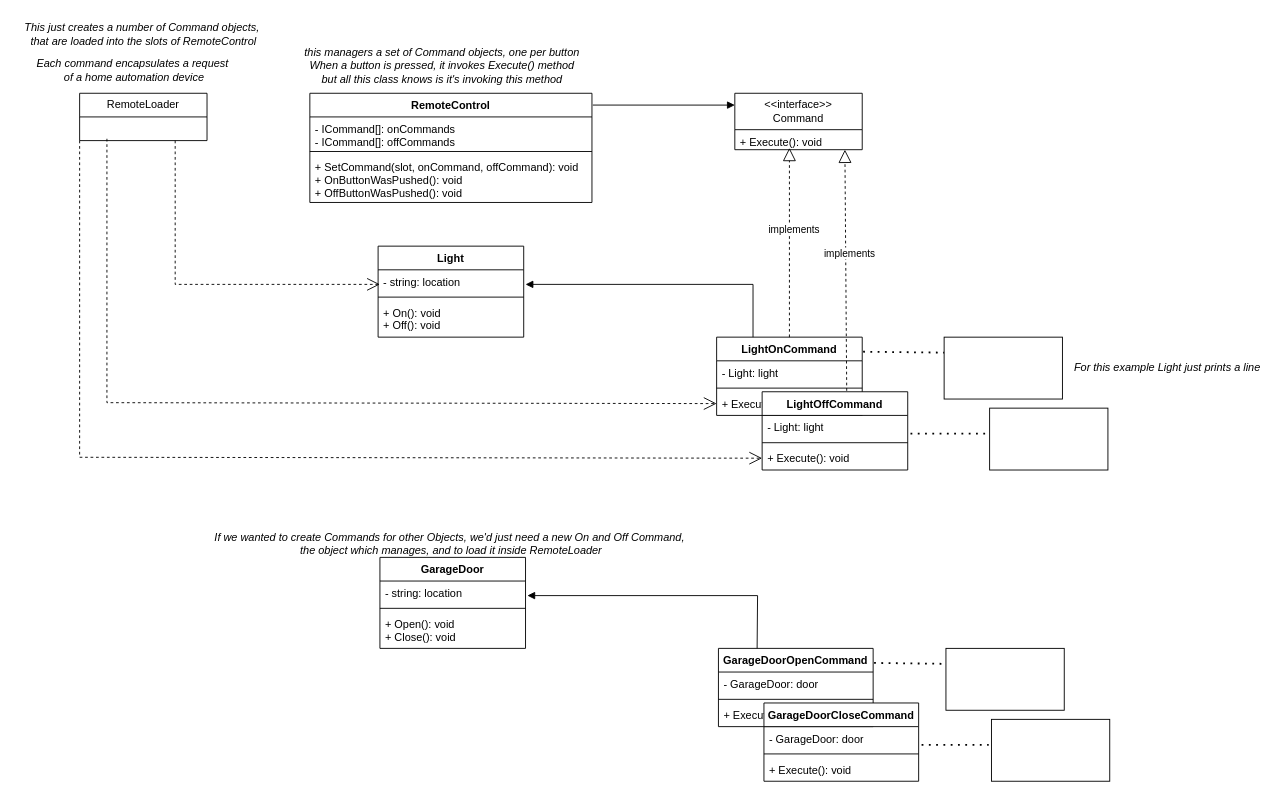
Some shapes in this 1287 by 799 pixel diagram are drawn without their labels. Here are the shapes that lost their labels. From the top down, the centre of each, then its label:
At (1002,367): "public void Execute() { light.On(); }".
At (1048,438): "public void Execute() { light.Off(); }".
At (1004,678): "public void Execute() { door.Open(); }".
At (1050,749): "public void Execute() { door.Close(); }".
